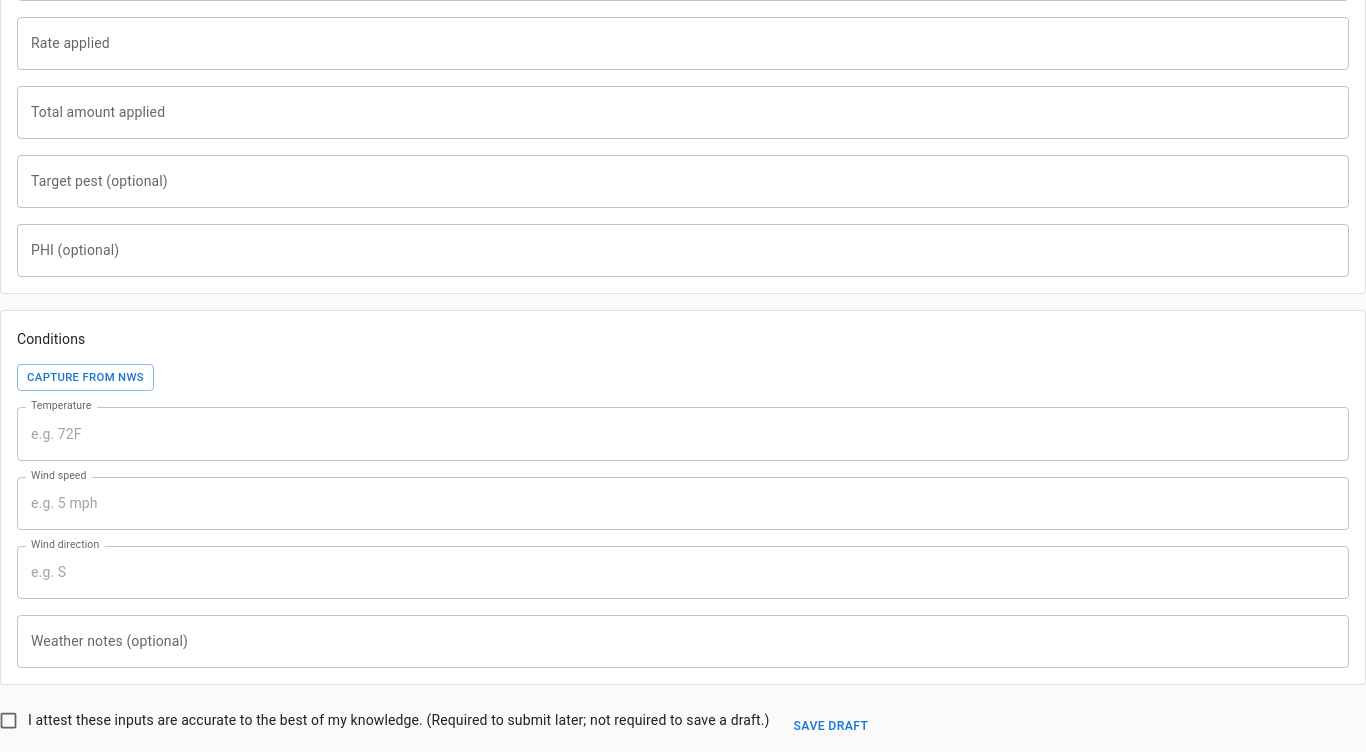
Test: DraftApplicationRecordForm weather capture › populates temperature, wind speed, and wind direction from a successful NWS reading
(page scrolled)
Step 1. Click the button "Capture from NWS" → (86, 377), box [17,364,154,391]
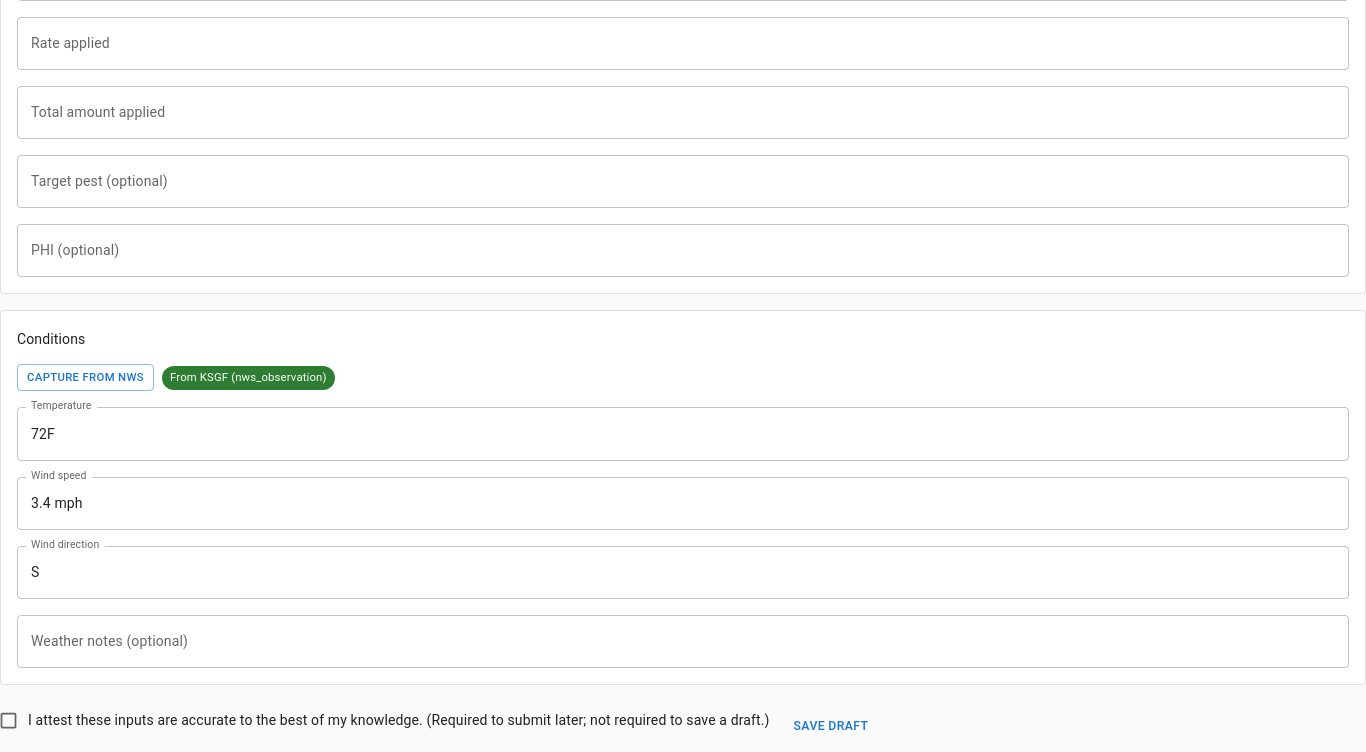
Now the field labelled "Temperature" holds "72F", box [17,408,1349,461]
Now the field labelled "Wind speed" holds "3.4 mph", box [17,477,1349,530]
Now the field labelled "Wind direction" holds "S", box [17,546,1349,599]
